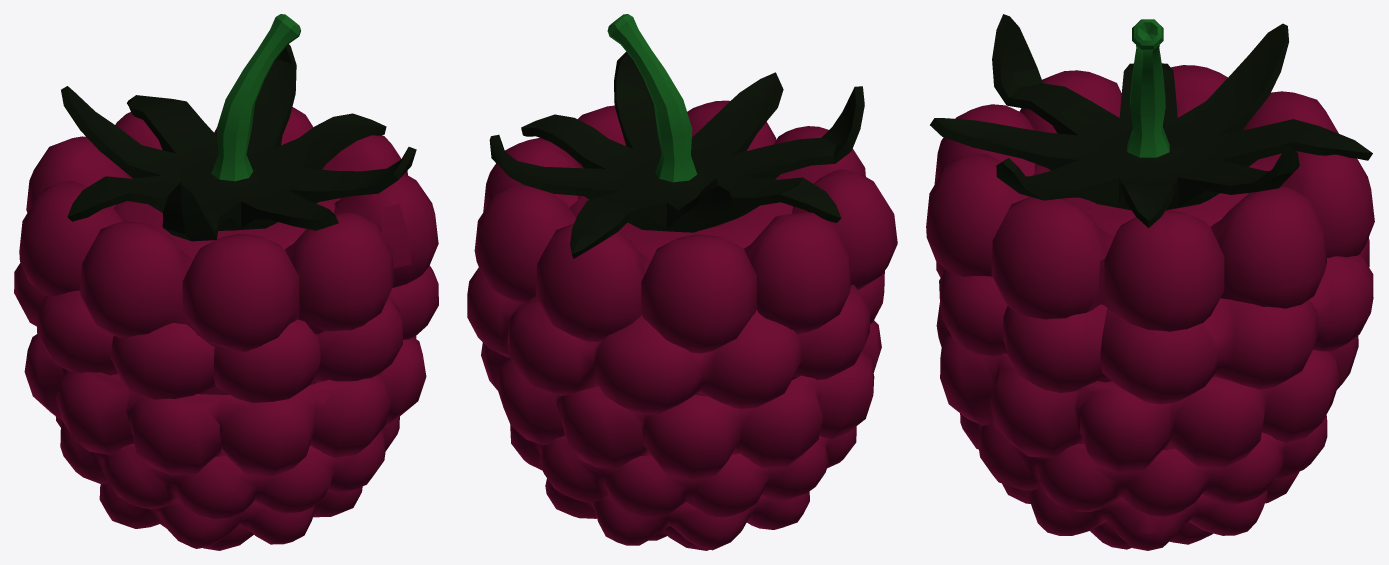
Rendered from Raspberry.FBX.
3 views of the same model, side by side, from view 1: azimuth 30°, elevation 25°; view 2: azimuth 150°, elevation 25°; view 3: azimuth 270°, elevation 25° (orthographic). The views are drawn at different scales.
Parts seen in each view (by area): view 1: Raspberry; view 2: Raspberry; view 3: Raspberry.
Part boxes in pixels (x1,y1,x2,y2): Raspberry: (14, 14, 438, 550); Raspberry: (467, 14, 897, 550); Raspberry: (926, 14, 1374, 550).
Size of the model in its own units: 1224 by 1196 by 1587.
